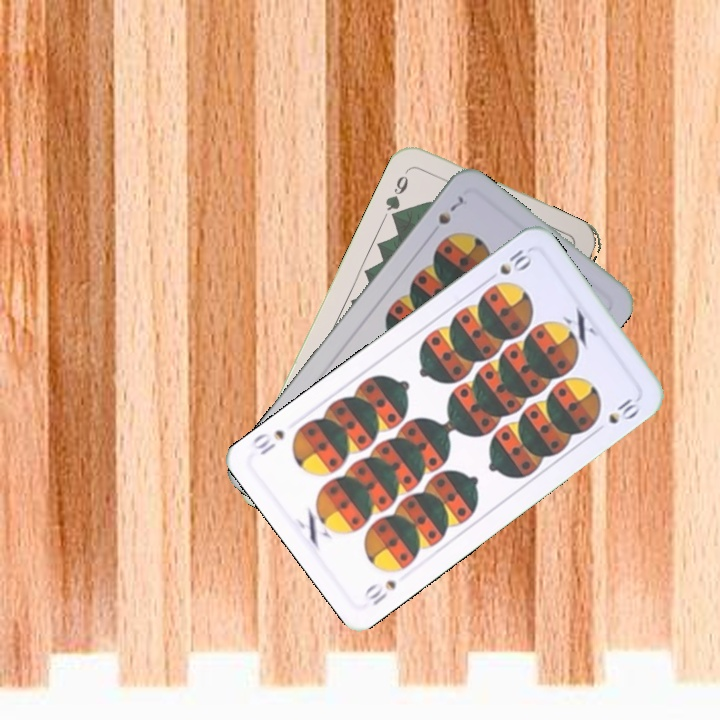G9: (381, 171, 412, 223)
S10: (481, 245, 535, 285), (360, 575, 399, 609)
S7: (434, 192, 467, 228)
